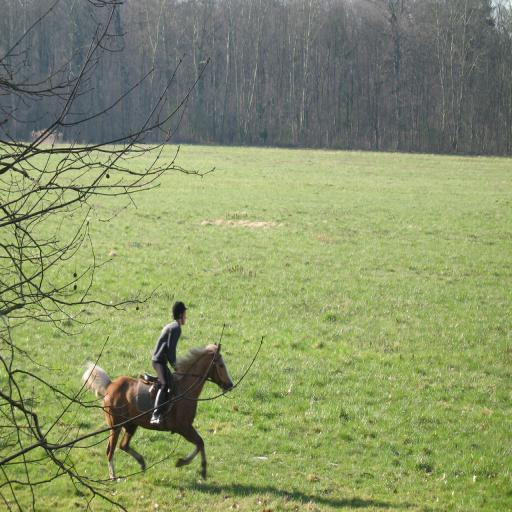horse: (76, 341, 232, 480)
